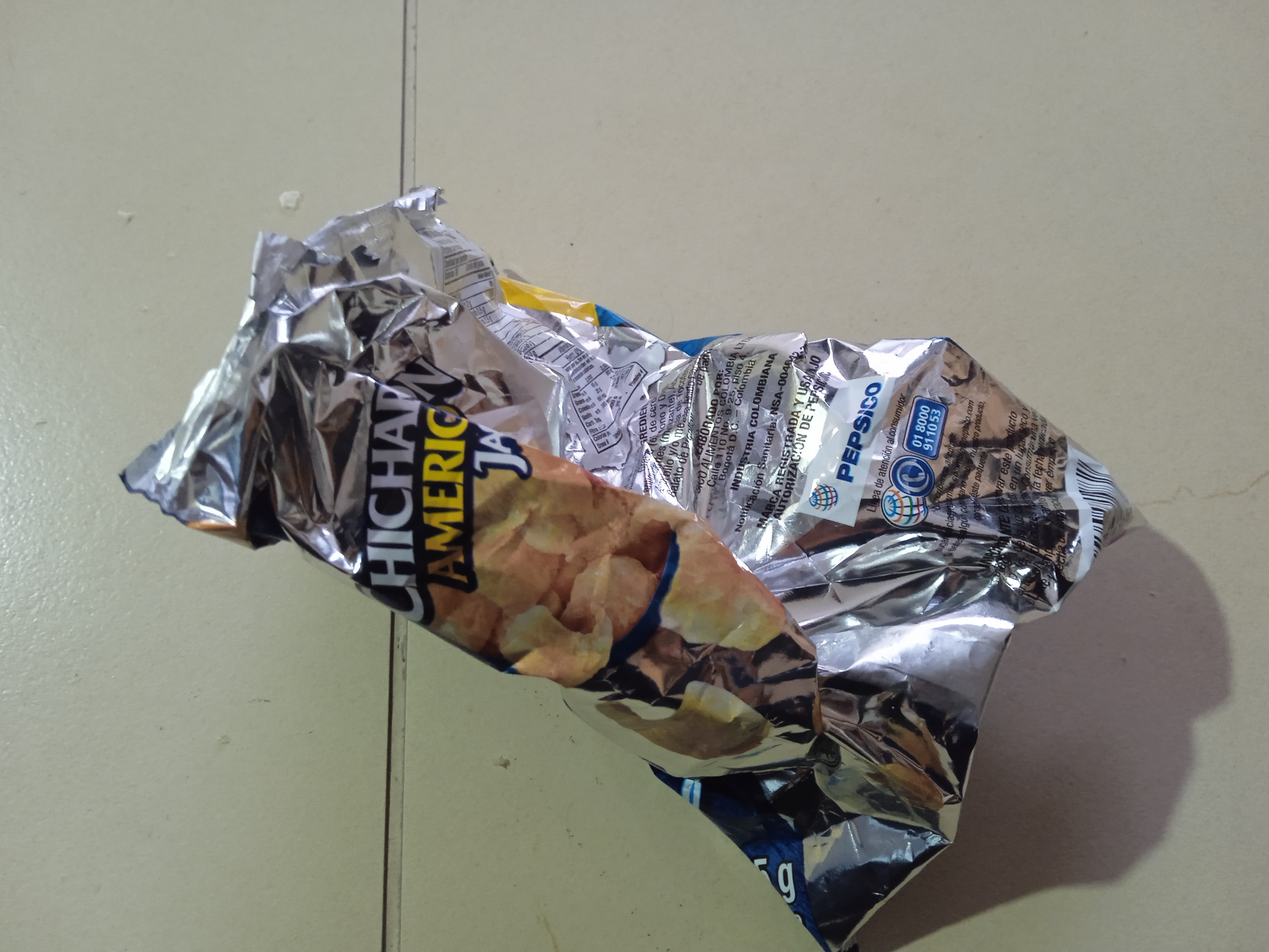plastic: (68, 147, 1149, 952)
